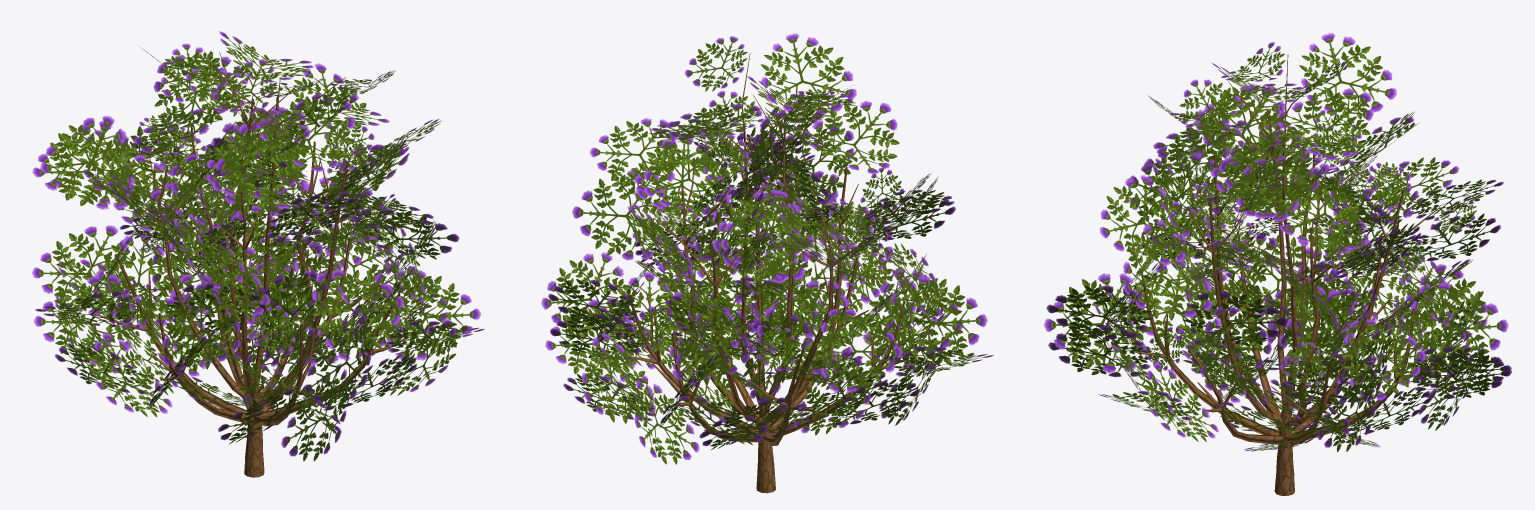
File: violeta.glb
The picture shows the model from 3 angles, left to right: view 1: azimuth 30°, elevation 25°; view 2: azimuth 150°, elevation 25°; view 3: azimuth 270°, elevation 25°; orthographic projection. The views are drawn at different scales.
Visible parts, largest first — view 1: fiolet_tree; view 2: fiolet_tree; view 3: fiolet_tree.
Boxes of the visible parts, x1,y1,x2,y2 form: fiolet_tree: (32, 31, 484, 477); fiolet_tree: (541, 33, 993, 493); fiolet_tree: (1044, 33, 1511, 495).
Bounding box in the file's own units: 12.35 × 11.66 × 11.87.
Materials: 2 (2 with a texture image).
